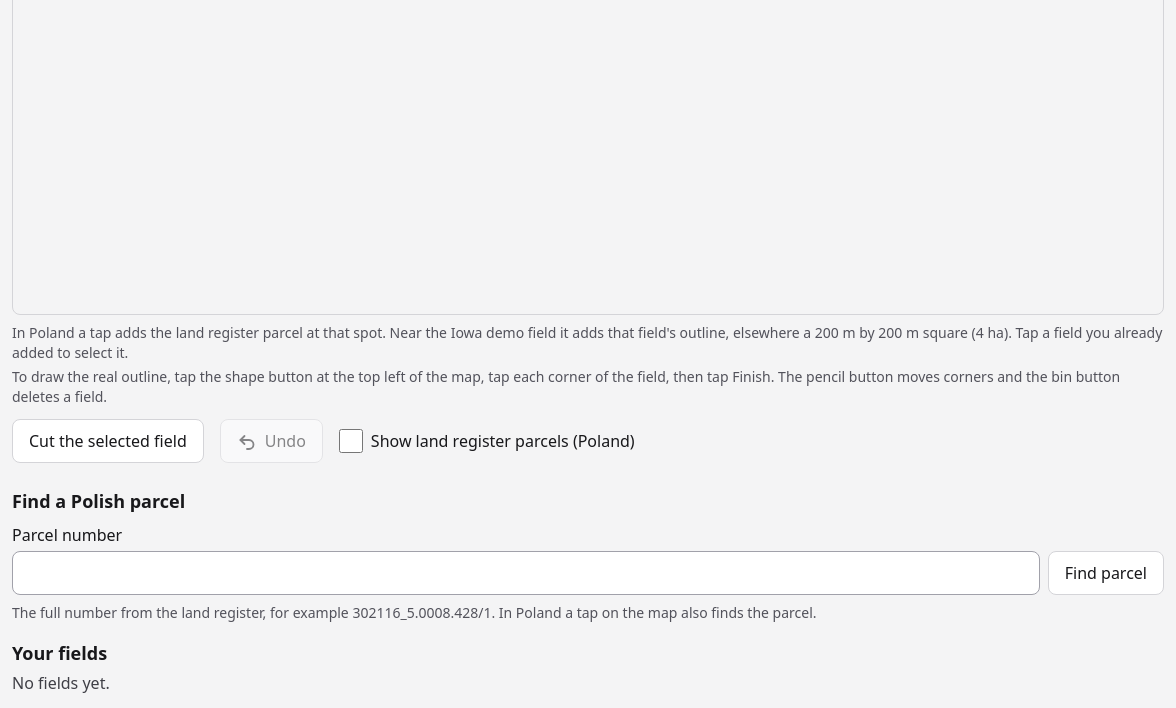
Test: cutting a field and the parcel layer › shows a source error when the parcel layer does not load, and retries it
The width and height of the screenshot is (1176, 708).
(page scrolled)
Step 1. Click the checkbox labelled "Show land register parcels (Poland)" → (351, 441), box [339,429,363,453]
(page scrolled)
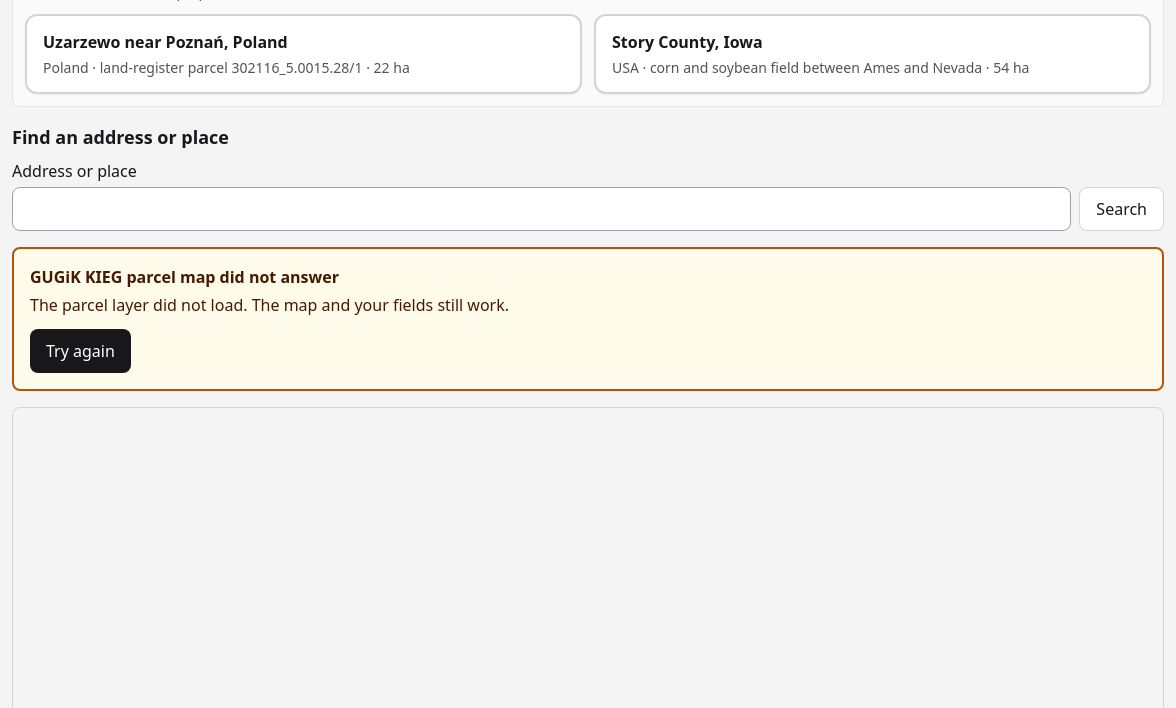
Check: the text "The parcel layer did not load. The map and your fields still work." is shown, box [30,294,509,316]
Step 2. Click the button "Try again" → (80, 351), box [30,329,131,373]
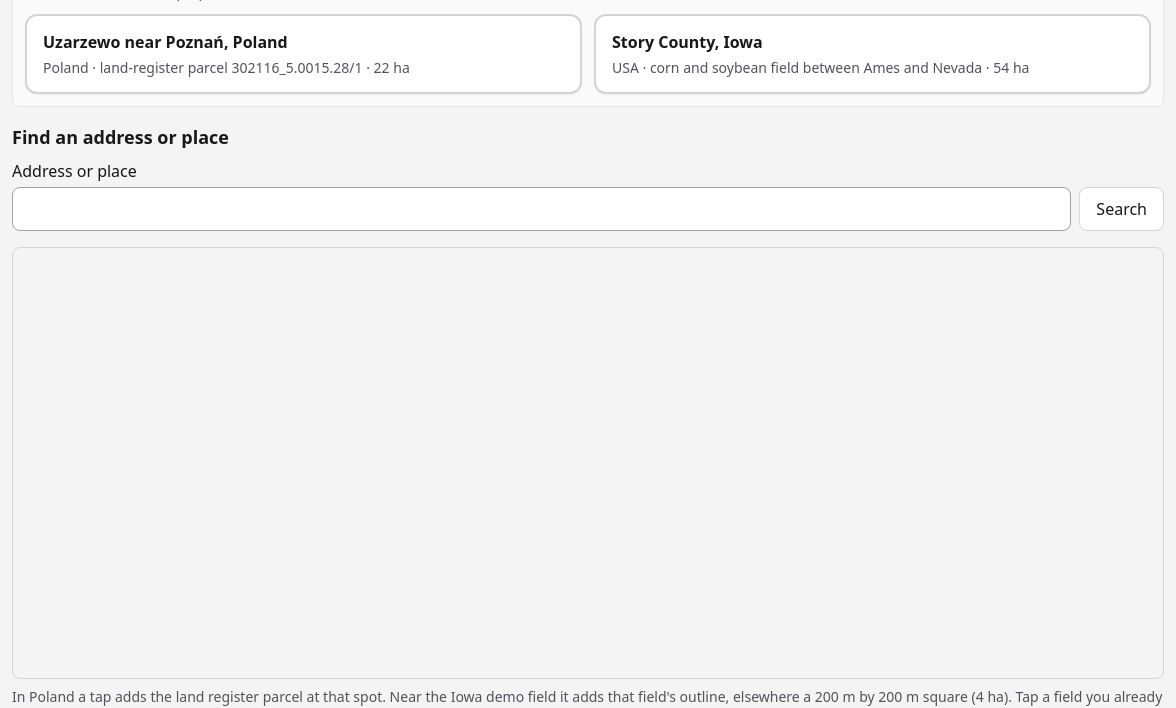
Check: the text "The parcel layer did not load. The map and your fields still work." is gone
